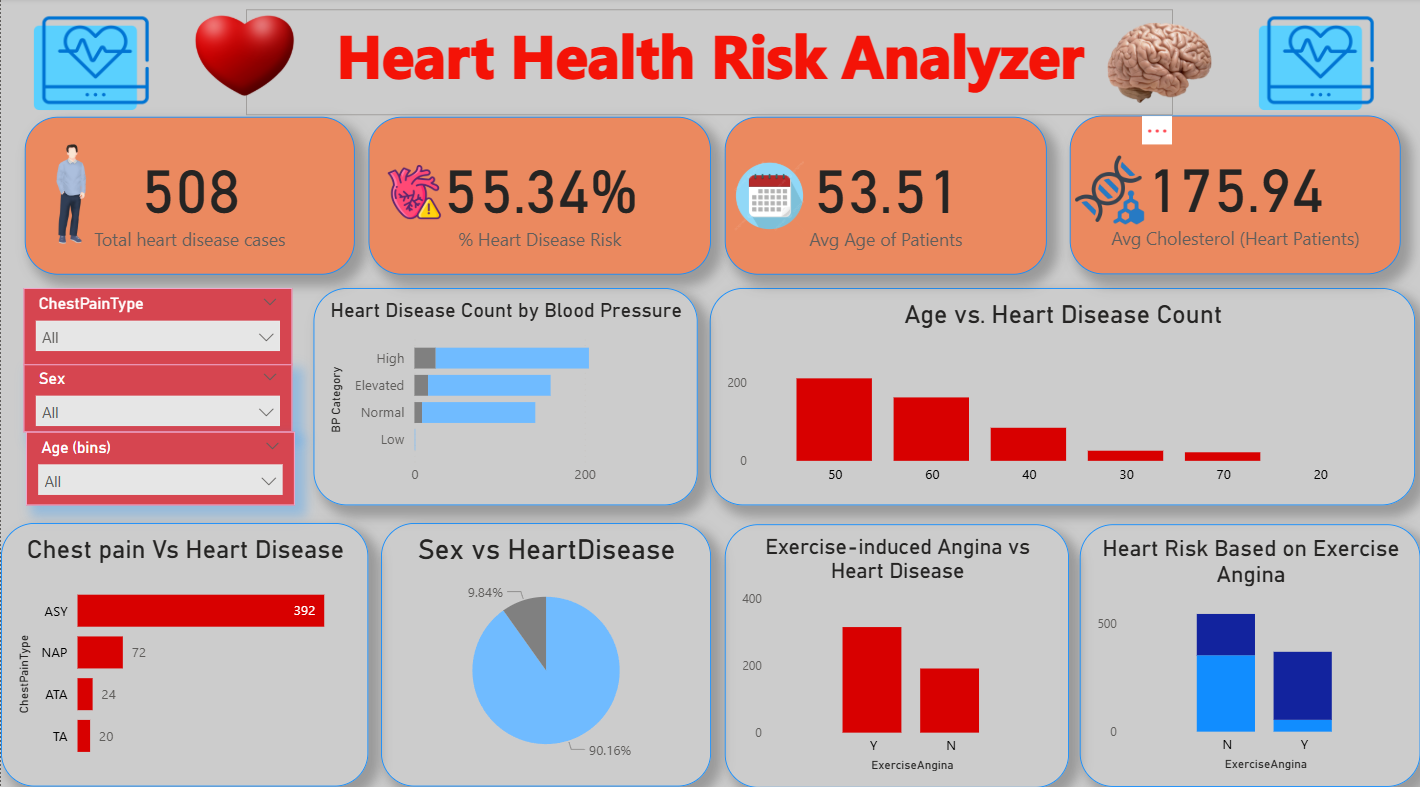

The page's visual inventory and layout, read from the dashboard file:
{"tool":"powerbi","page":{"name":"Page 1","canvas":[1280,720],"ordinal":0},"visuals":[{"type":"clusteredColumnChart","title":"Age vs. Heart Disease Count","fields":{"Y":["Sum(heart.HeartDisease)"],"Category":["heart.Age (bins)"]},"box":[639.5,261.7,635.9,195.7],"z":0},{"type":"barChart","title":"Chest pain Vs Heart Disease","fields":{"Category":["heart.ChestPainType"],"Y":["Sum(heart.HeartDisease)"]},"box":[0,473.6,331.4,237.5],"z":1000},{"type":"pieChart","title":"Sex vs HeartDisease","fields":{"Category":["heart.Sex"],"Y":["Sum(heart.HeartDisease)"]},"box":[342.8,473.6,297.2,237.5],"z":2000},{"type":"columnChart","title":"\tExercise-induced Angina vs Heart Disease","fields":{"Category":["heart.ExerciseAngina"],"Y":["Sum(heart.HeartDisease)"]},"box":[652.8,475,310,237.5],"z":3000},{"type":"columnChart","title":"Heart Risk Based on Exercise Angina","fields":{"Category":["heart.ExerciseAngina"],"Y":["heart.Heartdiseasee"],"Series":["heart.HeartDisease"]},"box":[972.4,474.7,307.3,236.6],"z":4000},{"type":"card","fields":{"Values":["heart.Total heart diseasecases"]},"box":[21.3,106.7,297.2,142.2],"z":5000},{"type":"card","fields":{"Values":["heart.% Heart Disease Risk"]},"box":[331.4,106.7,308.6,142.2],"z":6000},{"type":"card","fields":{"Values":["heart.Avg Age of Patients"]},"box":[652.8,106.7,290.1,142.2],"z":7000},{"type":"card","fields":{"Values":["heart.Avg Cholesterol (Heart Patients)"]},"box":[963.6,106.4,298.4,143.1],"z":8000},{"type":"slicer","fields":{"Values":["heart.Sex"]},"box":[20.8,328.9,242.1,62.4],"z":9000},{"type":"slicer","fields":{"Values":["heart.ChestPainType"]},"box":[20.8,261.7,242.1,69.7],"z":10000},{"type":"slicer","fields":{"Values":["heart.Age (bins)"]},"box":[22,391.3,242.1,66],"z":11000},{"type":"barChart","title":"Heart Disease Count by Blood Pressure","fields":{"Category":["heart.BP Category"],"Y":["Sum(heart.HeartDisease)"],"Series":["heart.Sex"]},"box":[281.3,261.7,346.1,195.7],"z":12000},{"type":"textbox","box":[220.5,10.2,837.2,95.8],"z":13000},{"type":"image","box":[165.4,0,108.8,101.6],"z":14000},{"type":"image","box":[21.8,0,120.4,117.5],"z":15000},{"type":"image","box":[992.4,11.6,103,94.3],"z":16000},{"type":"image","box":[1125.9,0,120.4,117.5],"z":17000},{"type":"image","box":[653,117.4,80.7,122.3],"z":18001},{"type":"image","box":[963.6,135.7,72.1,75.8],"z":18002},{"type":"image","box":[342.4,138.2,59.9,73.4],"z":18003},{"type":"image","box":[8.6,119.8,112.5,116.2],"z":18004},{"type":"textbox","box":[0,261.2,21.8,195.9],"z":18005}]}

Visuals, with their boxes in screenshot pixels (x1, y1, x2, y2), scaled from the page's 1280x720 canvas onto the 1420x787 screenshot:
"Age vs. Heart Disease Count" clusteredColumnChart: (left=709, top=286, right=1415, bottom=500)
"Chest pain Vs Heart Disease" barChart: (left=0, top=518, right=368, bottom=777)
"Sex vs HeartDisease" pieChart: (left=380, top=518, right=710, bottom=777)
"	Exercise-induced Angina vs Heart Disease" columnChart: (left=724, top=519, right=1068, bottom=779)
"Heart Risk Based on Exercise Angina" columnChart: (left=1079, top=519, right=1419, bottom=777)
card - heart.Total heart diseasecases: (left=24, top=117, right=353, bottom=272)
card - heart.% Heart Disease Risk: (left=368, top=117, right=710, bottom=272)
card - heart.Avg Age of Patients: (left=724, top=117, right=1046, bottom=272)
card - heart.Avg Cholesterol (Heart Patients): (left=1069, top=116, right=1400, bottom=273)
slicer - heart.Sex: (left=23, top=360, right=292, bottom=428)
slicer - heart.ChestPainType: (left=23, top=286, right=292, bottom=362)
slicer - heart.Age (bins): (left=24, top=428, right=293, bottom=500)
"Heart Disease Count by Blood Pressure" barChart: (left=312, top=286, right=696, bottom=500)
textbox: (left=245, top=11, right=1173, bottom=116)
image: (left=183, top=0, right=304, bottom=111)
image: (left=24, top=0, right=158, bottom=128)
image: (left=1101, top=13, right=1215, bottom=116)
image: (left=1249, top=0, right=1383, bottom=128)
image: (left=724, top=128, right=814, bottom=262)
image: (left=1069, top=148, right=1149, bottom=231)
image: (left=380, top=151, right=446, bottom=231)
image: (left=10, top=131, right=134, bottom=258)
textbox: (left=0, top=286, right=24, bottom=500)
